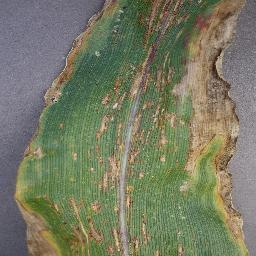Gray_Leaf_Spot: (160, 0, 245, 209), (97, 141, 147, 254), (14, 190, 97, 256), (94, 94, 159, 140), (73, 0, 129, 42), (138, 0, 160, 93), (216, 208, 253, 256), (52, 42, 85, 84), (22, 125, 45, 161), (113, 62, 138, 94), (145, 139, 159, 184), (40, 84, 62, 108), (12, 162, 30, 191), (85, 148, 95, 175), (175, 241, 188, 256), (152, 242, 164, 256), (68, 149, 77, 162), (56, 119, 65, 130)
